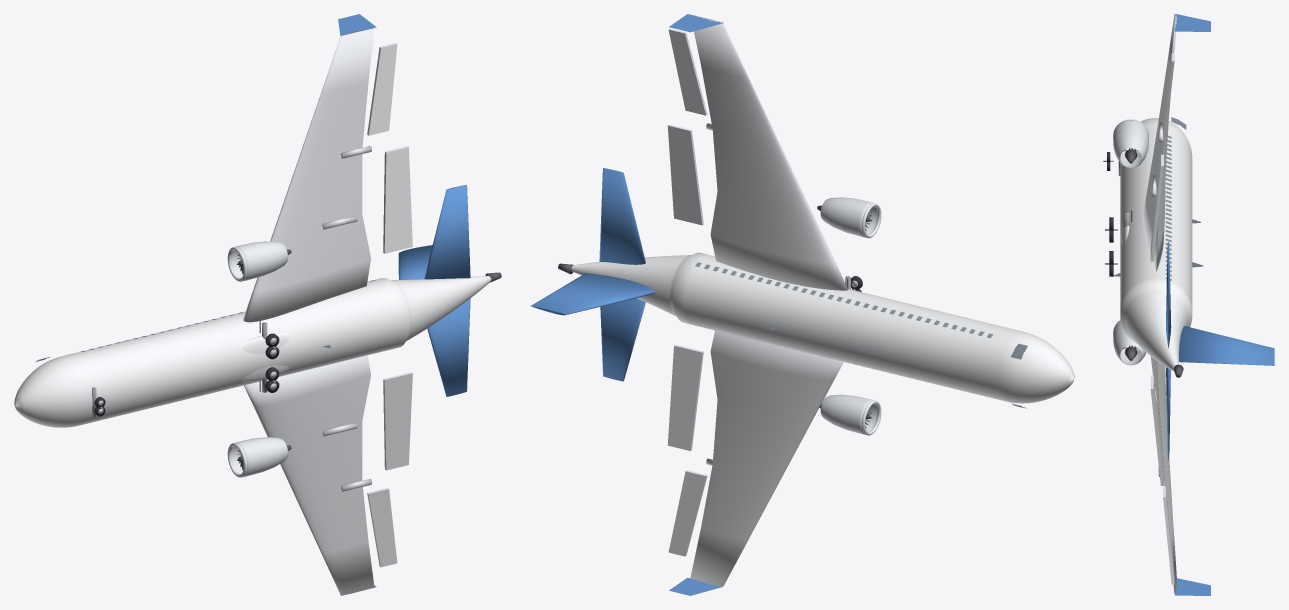
3 renders of one model, left to right at view 1: azimuth 30°, elevation 25°; view 2: azimuth 150°, elevation 25°; view 3: azimuth 270°, elevation 25°, orthographic.
Parts seen in each view (by area): view 1: Fuselage, Wing_R, Wing_L, HStab_R, Flap_R, HStab_L, Flap_L, Aileron_R, Nacelle_1_0, Nacelle_-1_0, Aileron_L, Fin (+1 smaller); view 2: Fuselage, Wing_L, Wing_R, HStab_R, Fin, Flap_L, HStab_L, Flap_R, Aileron_L, Aileron_R, Nacelle_1_0, Nacelle_-1_0 (+1 smaller); view 3: Fuselage, Fin, Wing_R, Wing_L, Nacelle_1_0, Nacelle_-1_0, Sharklet_R, Flap_L, Flap_R, Sharklet_L, Windows_1_70, Aileron_L (+3 smaller).
Boxes of the visible parts, box(x1,y1,x2,y2) form: Fuselage: box(14, 276, 491, 427); Wing_R: box(243, 28, 374, 322); Wing_L: box(244, 355, 374, 595); HStab_R: box(424, 184, 470, 279); Flap_R: box(383, 146, 412, 253); HStab_L: box(427, 298, 470, 396); Flap_L: box(383, 372, 412, 470); Aileron_R: box(367, 43, 397, 135); Nacelle_1_0: box(231, 241, 287, 281); Nacelle_-1_0: box(231, 437, 287, 476); Aileron_L: box(367, 488, 397, 567); Fin: box(398, 245, 432, 279); Fuselage: box(571, 252, 1074, 403); Wing_L: box(690, 330, 843, 586); Wing_R: box(691, 14, 848, 290); HStab_R: box(599, 168, 645, 264); Fin: box(530, 273, 654, 315); Flap_L: box(667, 344, 703, 450); HStab_L: box(600, 298, 645, 381); Flap_R: box(667, 124, 703, 225); Aileron_L: box(668, 470, 707, 556); Aileron_R: box(668, 28, 707, 115); Nacelle_1_0: box(820, 197, 877, 237); Nacelle_-1_0: box(820, 394, 877, 434); Fuselage: box(1120, 118, 1192, 371); Fin: box(1179, 326, 1274, 365); Wing_R: box(1142, 14, 1177, 271); Wing_L: box(1150, 356, 1177, 593); Nacelle_1_0: box(1113, 120, 1148, 167); Nacelle_-1_0: box(1113, 321, 1146, 365); Sharklet_R: box(1174, 14, 1210, 31); Flap_L: box(1150, 375, 1163, 485); Flap_R: box(1150, 154, 1163, 261); Sharklet_L: box(1174, 578, 1210, 595); Windows_1_70: box(1165, 136, 1171, 280); Aileron_L: box(1163, 487, 1174, 584).
Size of the model in its own units: 31.74 by 34.1 by 9.4.
